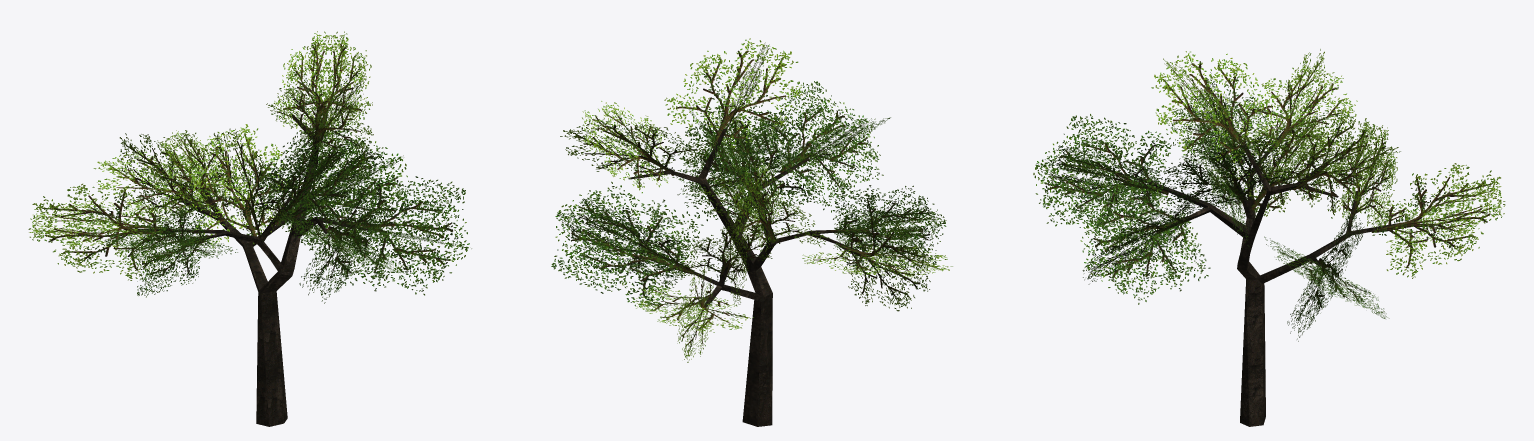
Rendered from tree1.gltf.
The picture shows the model from 3 angles, left to right: view 1: azimuth 30°, elevation 25°; view 2: azimuth 150°, elevation 25°; view 3: azimuth 270°, elevation 25°; orthographic projection. The views are drawn at different scales.
Visible parts, largest first — view 1: Node_97d885bc-28d2-48df-a0f9-81750d45c498_0_1, Node_97d885bc-28d2-48df-a0f9-81750d45c498_0_0; view 2: Node_97d885bc-28d2-48df-a0f9-81750d45c498_0_1, Node_97d885bc-28d2-48df-a0f9-81750d45c498_0_0; view 3: Node_97d885bc-28d2-48df-a0f9-81750d45c498_0_1, Node_97d885bc-28d2-48df-a0f9-81750d45c498_0_0.
Boxes of the visible parts, x1,y1,x2,y2 form: Node_97d885bc-28d2-48df-a0f9-81750d45c498_0_1: (28,31,471,303); Node_97d885bc-28d2-48df-a0f9-81750d45c498_0_0: (138,115,367,426); Node_97d885bc-28d2-48df-a0f9-81750d45c498_0_1: (551,38,952,362); Node_97d885bc-28d2-48df-a0f9-81750d45c498_0_0: (628,129,861,426); Node_97d885bc-28d2-48df-a0f9-81750d45c498_0_1: (1033,49,1505,341); Node_97d885bc-28d2-48df-a0f9-81750d45c498_0_0: (1139,131,1403,426).
Size of the model in its own units: 16.87 by 14.11 by 15.96.
2 materials, 2 textured.
